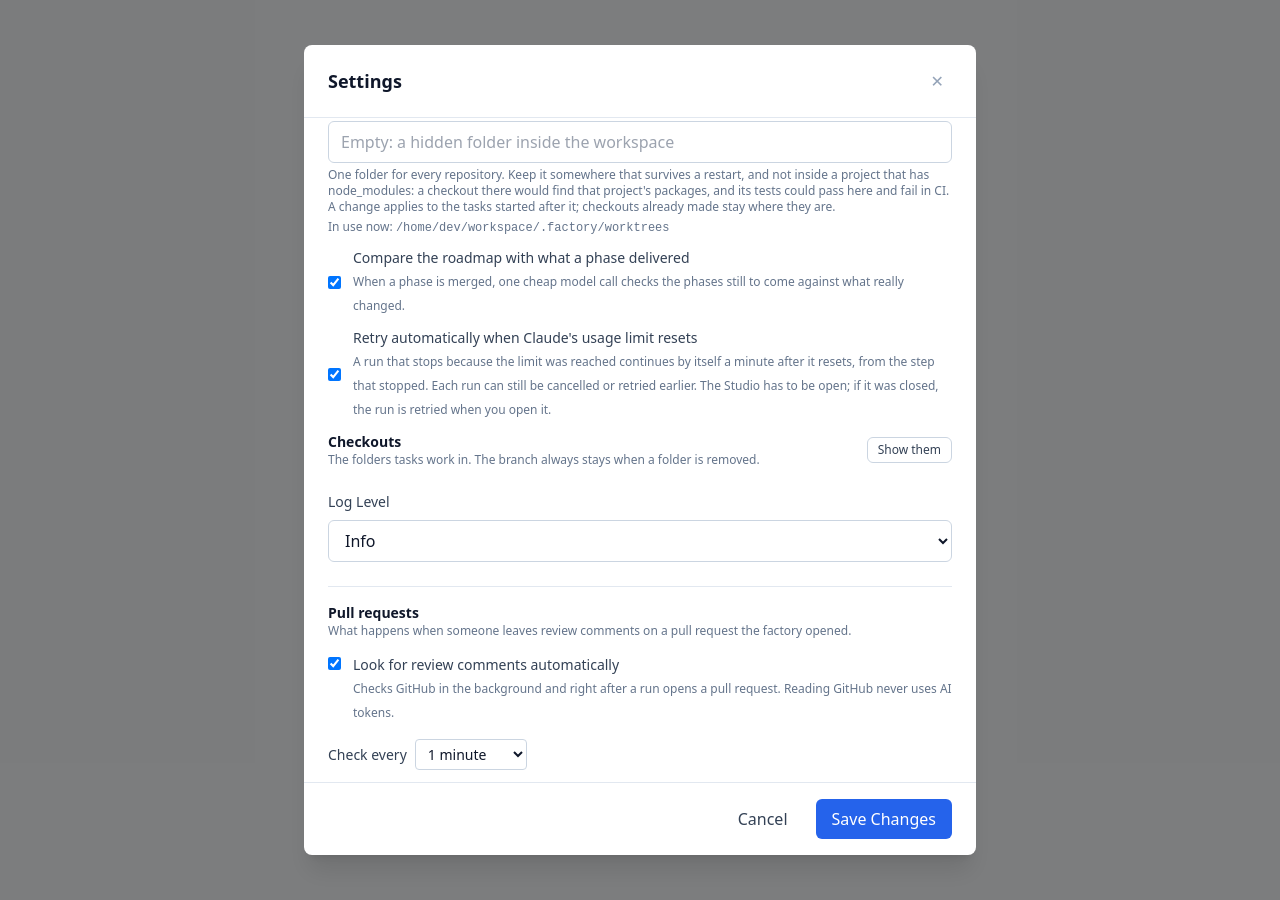
Test: the checkouts › marks a folder git does not know, and offers no way to remove it
(page scrolled)
Click the button "Show them" at {"x": 909, "y": 450}, box 867,437 -> 952,463
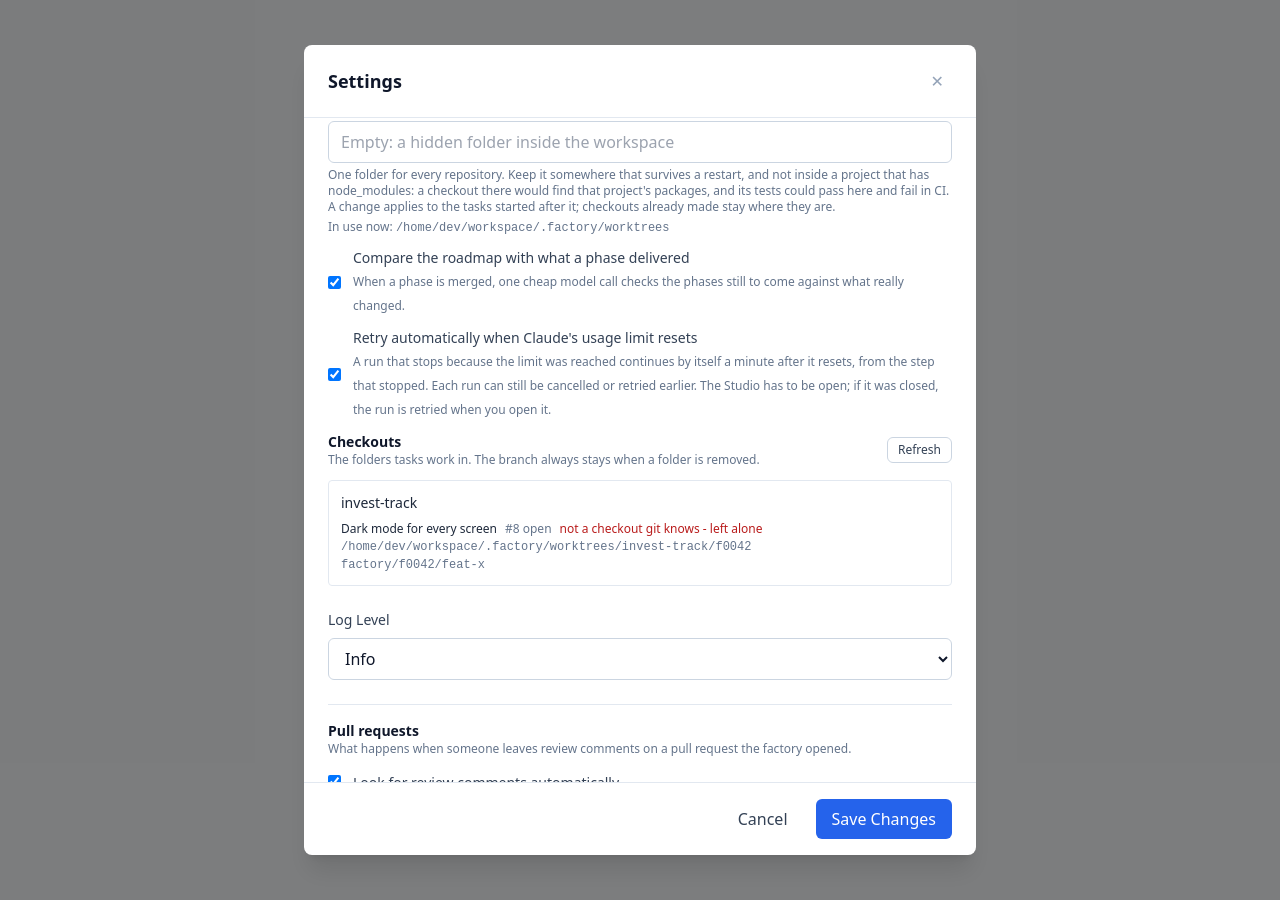
expect the element with test id "worktrees-invest-track" shows "not a checkout git knows - left alone": met, box 560,520 -> 763,537
